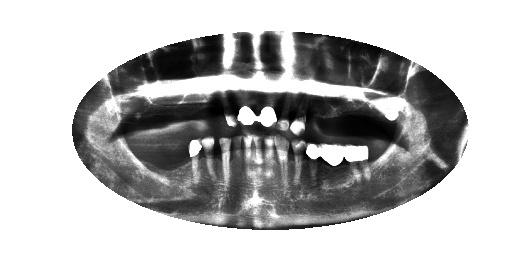i10healthy: (229, 132, 245, 186)
i11healthy: (217, 134, 232, 189)
i12healthy: (199, 129, 219, 181)
i13healthy: (188, 134, 203, 184)
i2healthy: (344, 136, 373, 184)
i3loss: (316, 135, 350, 189)
i4healthy: (305, 137, 323, 189)
i5decay: (290, 133, 306, 189)
i6healthy: (273, 129, 295, 194)
i7decay: (260, 125, 278, 193)
i8decay: (251, 128, 264, 180)
i9healthy: (240, 127, 252, 188)
u10decay: (219, 83, 239, 131)
u6decay: (288, 74, 310, 138)
u7decay: (272, 79, 290, 132)
u8healthy: (256, 77, 279, 131)
u9healthy: (233, 78, 257, 130)
